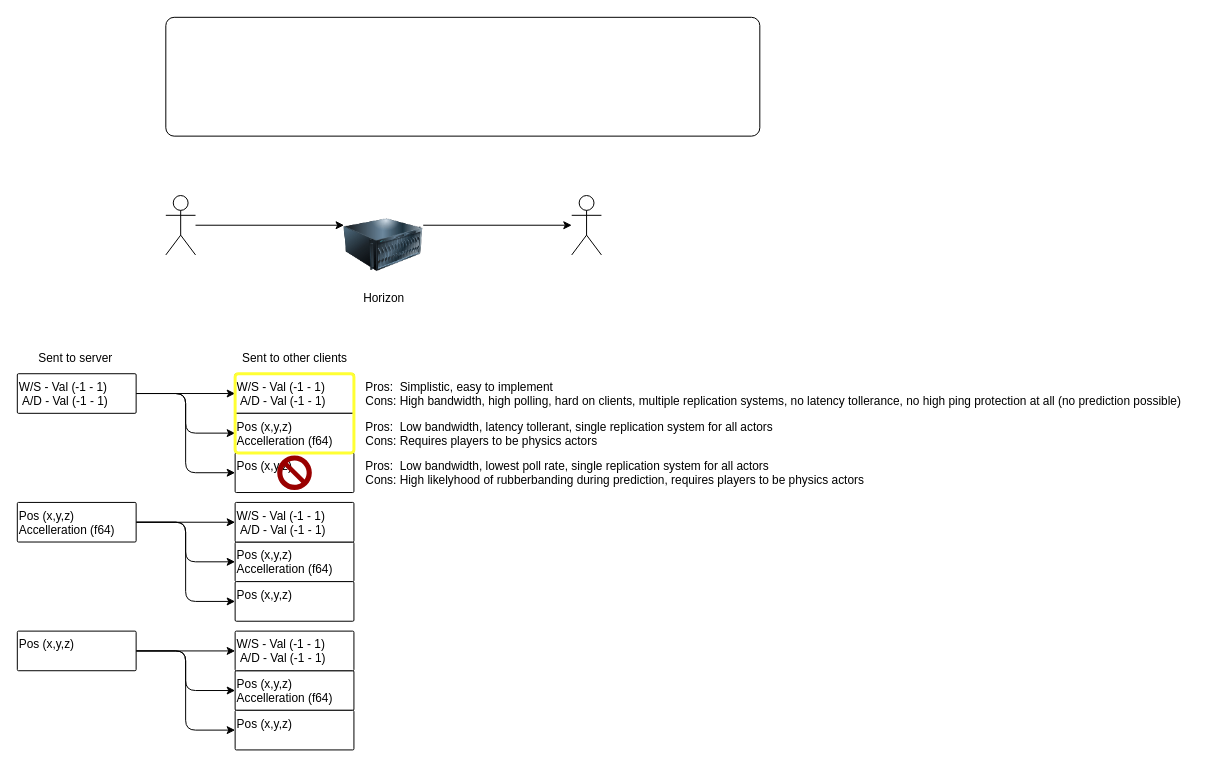
Image size: 1213x767. Some labels were removed from this diagram. The shapes that lost their labels are listed below. From the top down, each one's centre as x and y in pixels, then its label:
point 180,225: Player1
point 586,225: Player2
